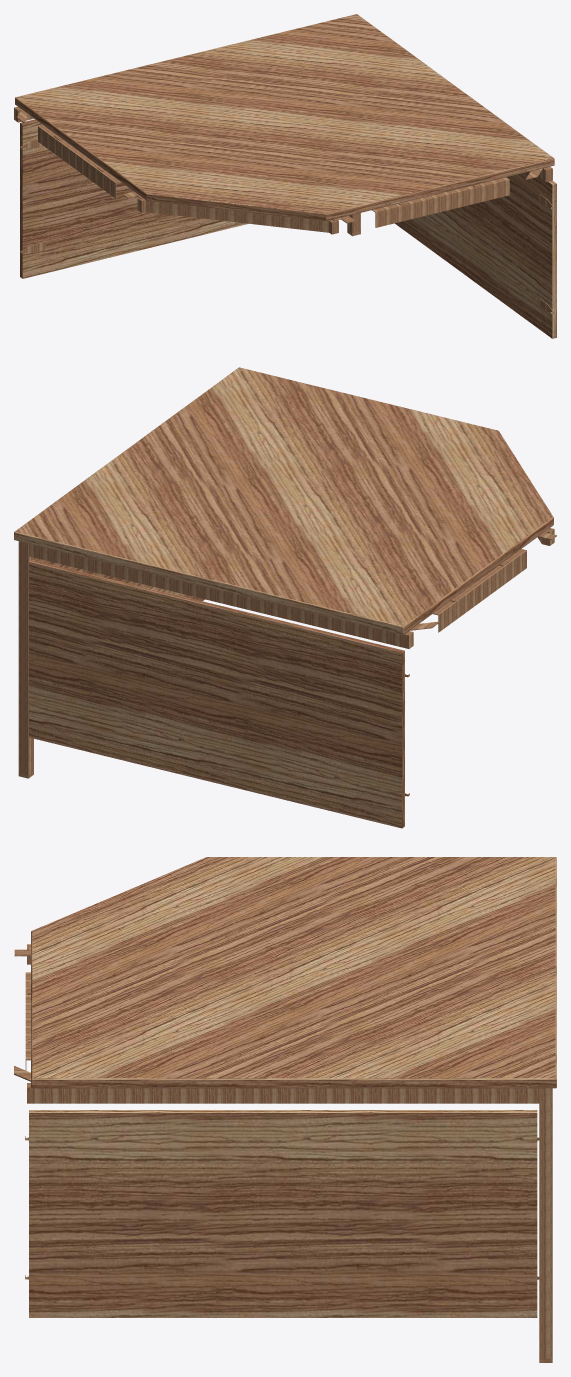
File: linking_top_41_120x120x80_leg_shield_finala.fbx
3 views of the same model, one above another, from view 1: azimuth 30°, elevation 25°; view 2: azimuth 150°, elevation 25°; view 3: azimuth 270°, elevation 25° (orthographic). The views are drawn at different scales.
Parts seen in each view (by area): view 1: blat_mesh, drewno1_mesh, drewno2_mesh, metal_mesh; view 2: blat_mesh, drewno1_mesh, metal_mesh; view 3: blat_mesh, drewno2_mesh, metal_mesh.
Part boxes in pixels (left/top/right/bottom): blat_mesh: left=15, top=14, right=554, bottom=221; drewno1_mesh: left=20, top=119, right=248, bottom=278; drewno2_mesh: left=395, top=171, right=556, bottom=338; metal_mesh: left=14, top=106, right=553, bottom=313; blat_mesh: left=14, top=367, right=553, bottom=634; drewno1_mesh: left=29, top=559, right=404, bottom=828; metal_mesh: left=18, top=528, right=556, bottom=796; blat_mesh: left=31, top=857, right=556, bottom=1088; drewno2_mesh: left=29, top=1110, right=537, bottom=1317; metal_mesh: left=14, top=944, right=552, bottom=1358.
Bounding box in the file's own units: 124 × 72 × 124.
